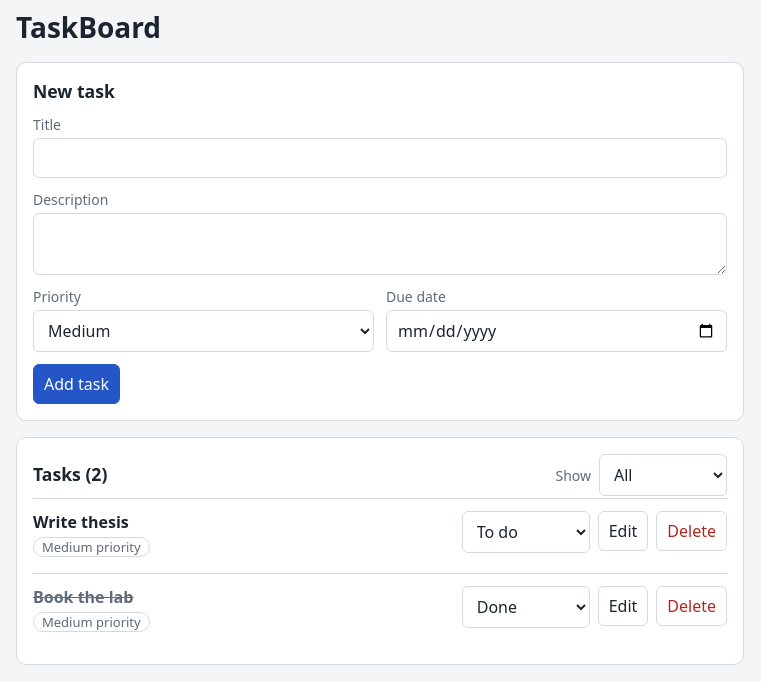
Test case: App › filters tasks by status
This screenshot has width=761, height=682.
expect the heading "Write thesis" is shown: met, box [33,511,129,533]
Step 1. Select "Done" in the dropdown labelled "Show" → (663, 475), box [599,454,727,496]
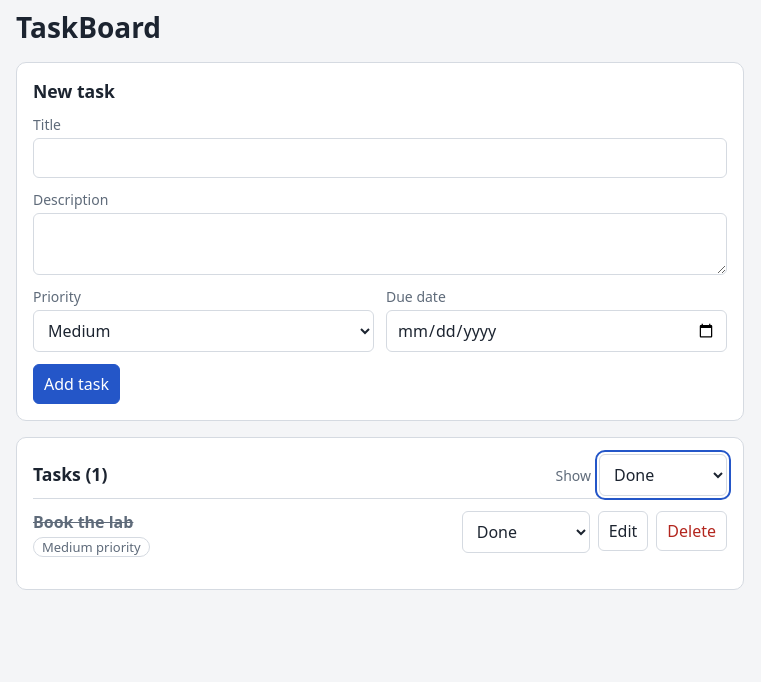
expect the heading "Book the lab" is shown: met, box [33,511,133,533]
expect the heading "Write thesis" is gone: met
expect the heading "Tasks (1)" is shown: met, box [33,462,107,486]
